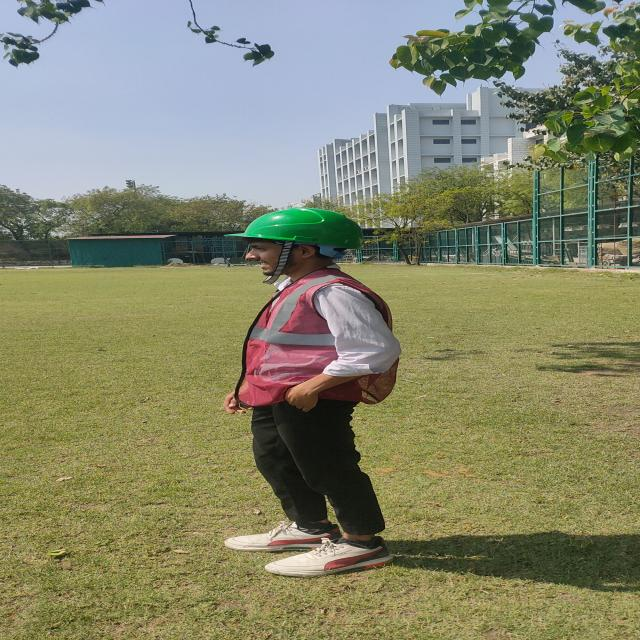safe: (228, 207, 398, 575)
